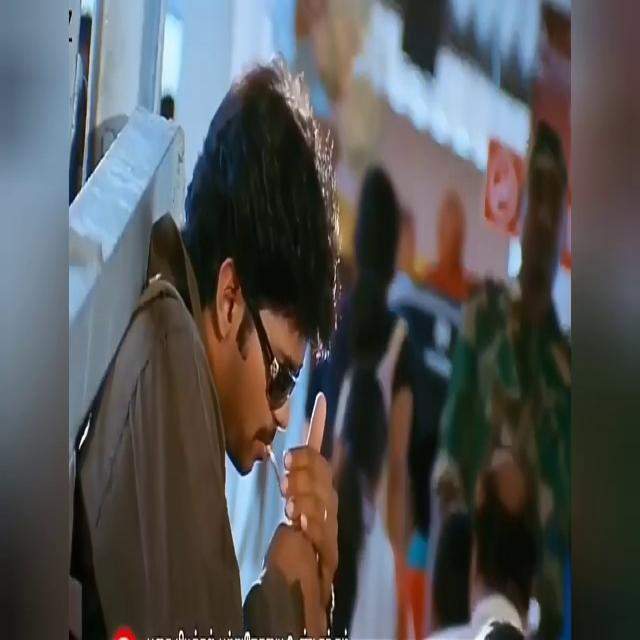smoking: (186, 217, 330, 517)
